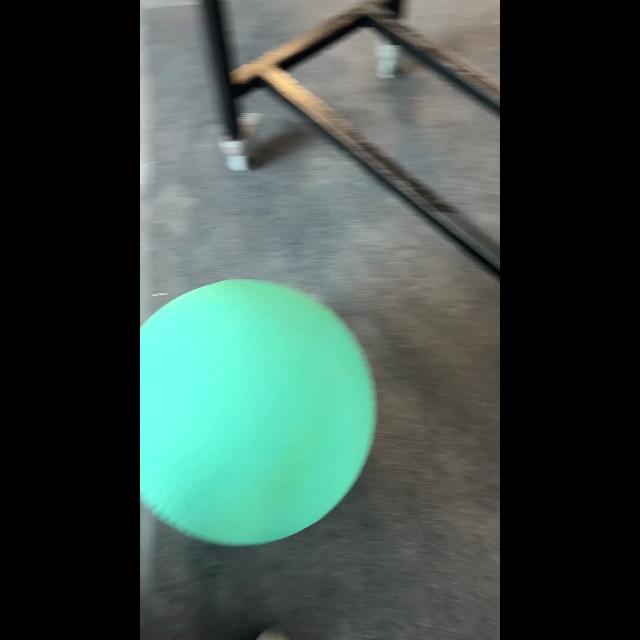ALGAE: (140, 277, 378, 547)
